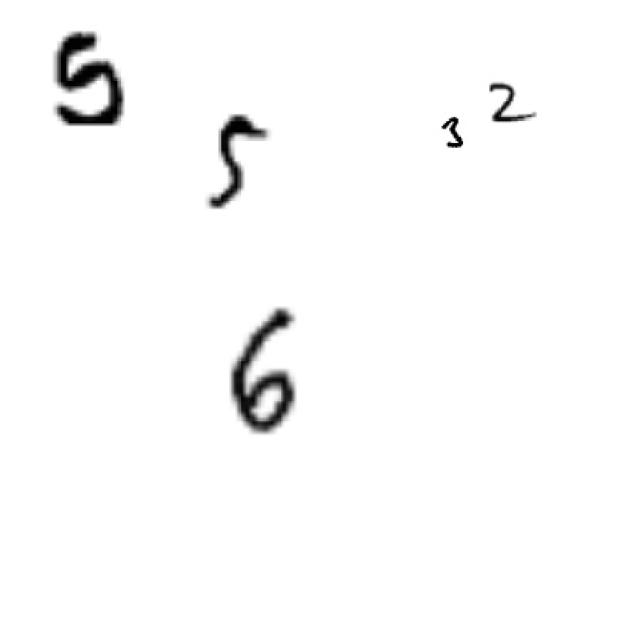2: (477, 74, 546, 135)
3: (432, 112, 472, 158)
5: (191, 95, 277, 220), (49, 22, 134, 132)
6: (215, 295, 309, 438)
objects: (40, 18, 132, 137)
